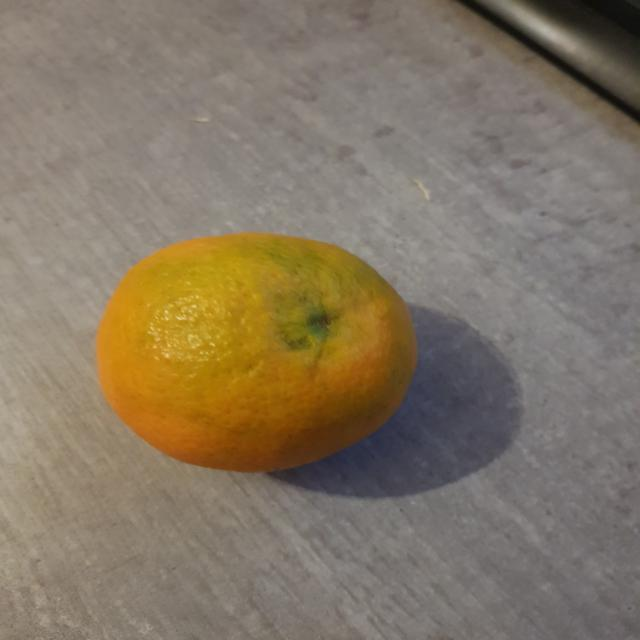Orange: (94, 233, 418, 476)
